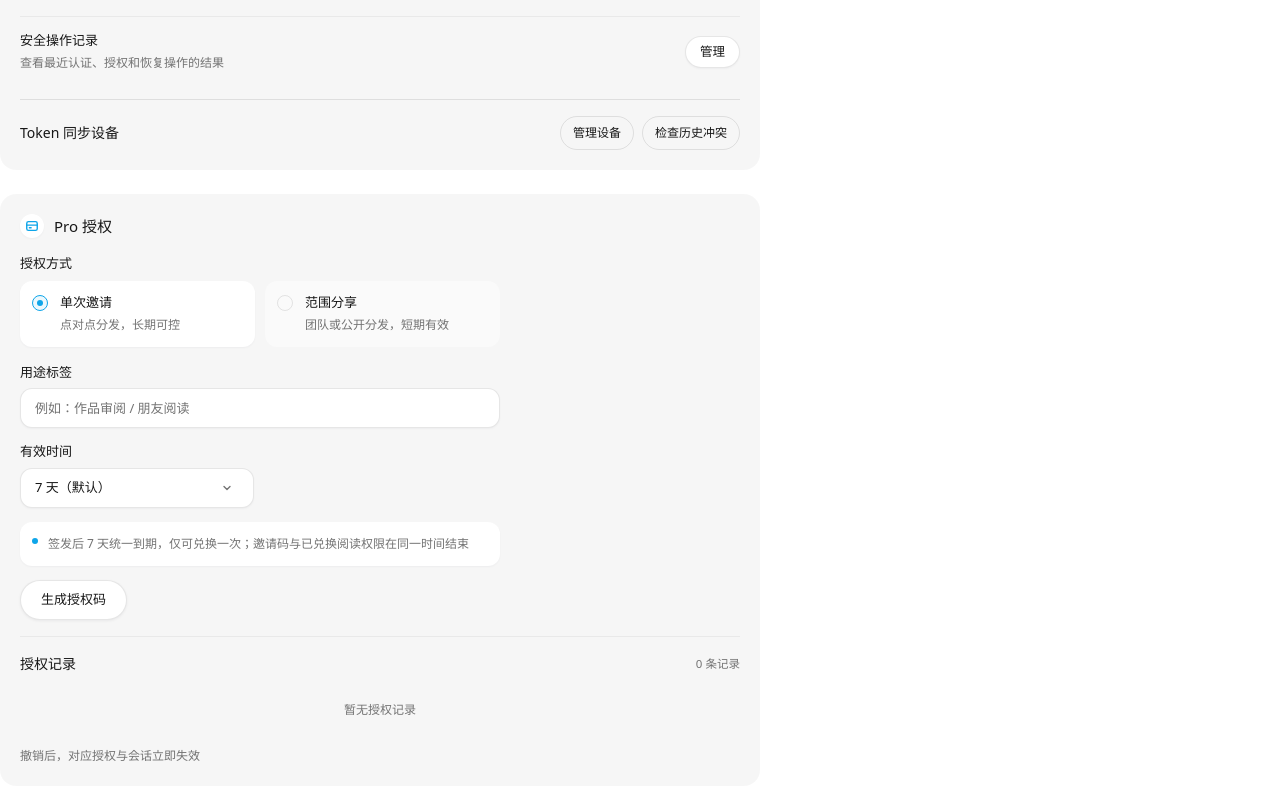
Test case: keeps authentication errors inside the modal and resumes the original operation only after success
The image size is (1280, 786).
(page scrolled)
expect the label labelled "有效时间" is shown: met, box [20, 442, 72, 460]
Step 1. Click the button "生成授权码" → click(74, 600), box [20, 580, 127, 620]
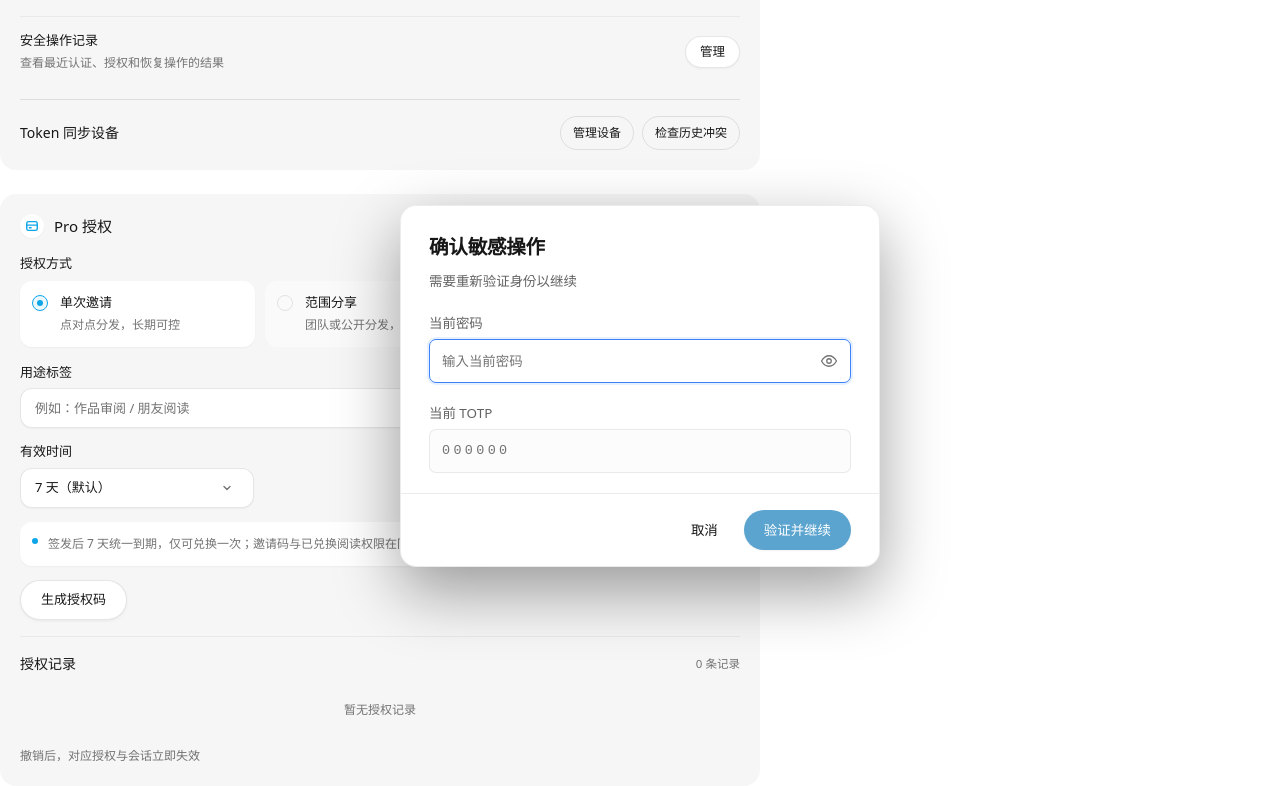
Step 2. Type "password-for-verification" into the password field labelled "当前密码" → (640, 361), box [429, 339, 851, 383]
Step 3. Type "123456" into the field labelled "当前 TOTP" → (640, 451), box [429, 429, 851, 473]
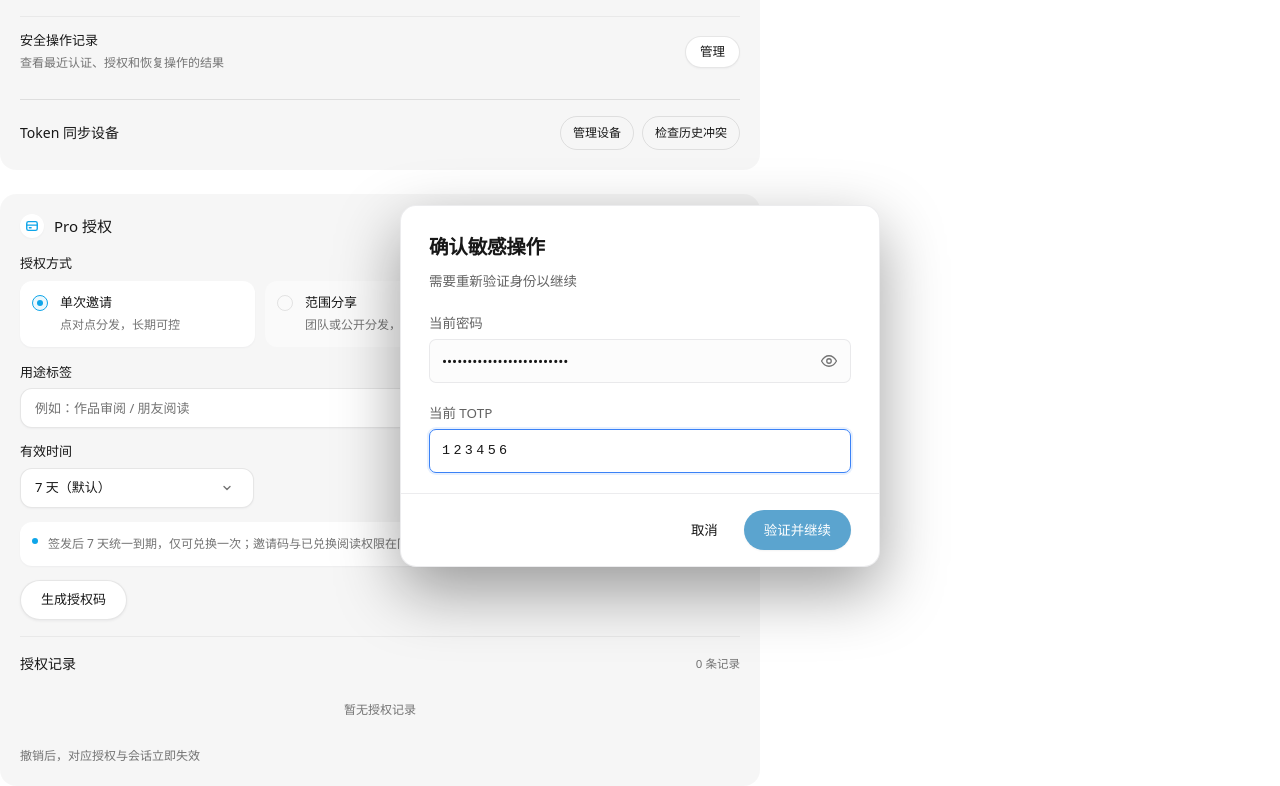
Step 4. Click the button "验证并继续" → click(797, 530), box [744, 510, 851, 550]
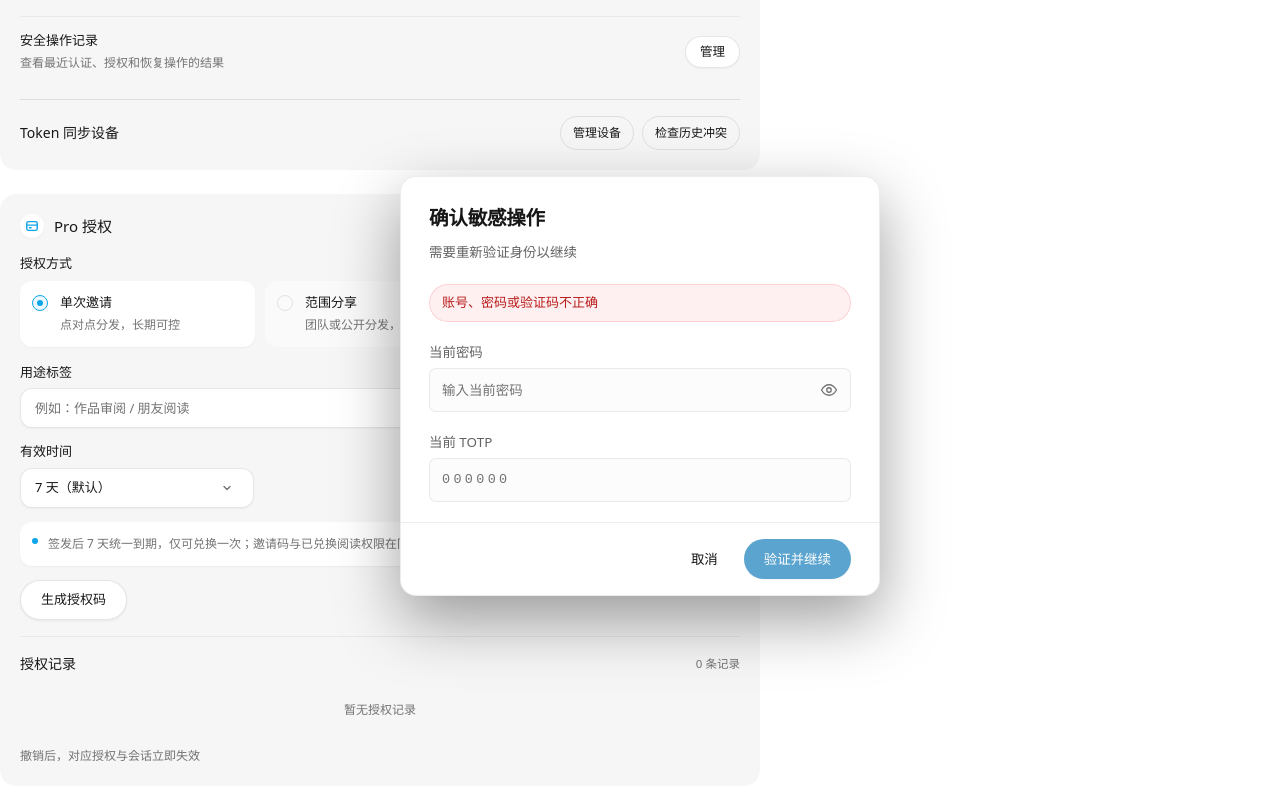
expect the message reads "账号、密码或验证码不正确": met, box [442, 293, 598, 311]
Step 5. Type "password-for-verification" into the password field labelled "当前密码" → (640, 390), box [429, 368, 851, 412]
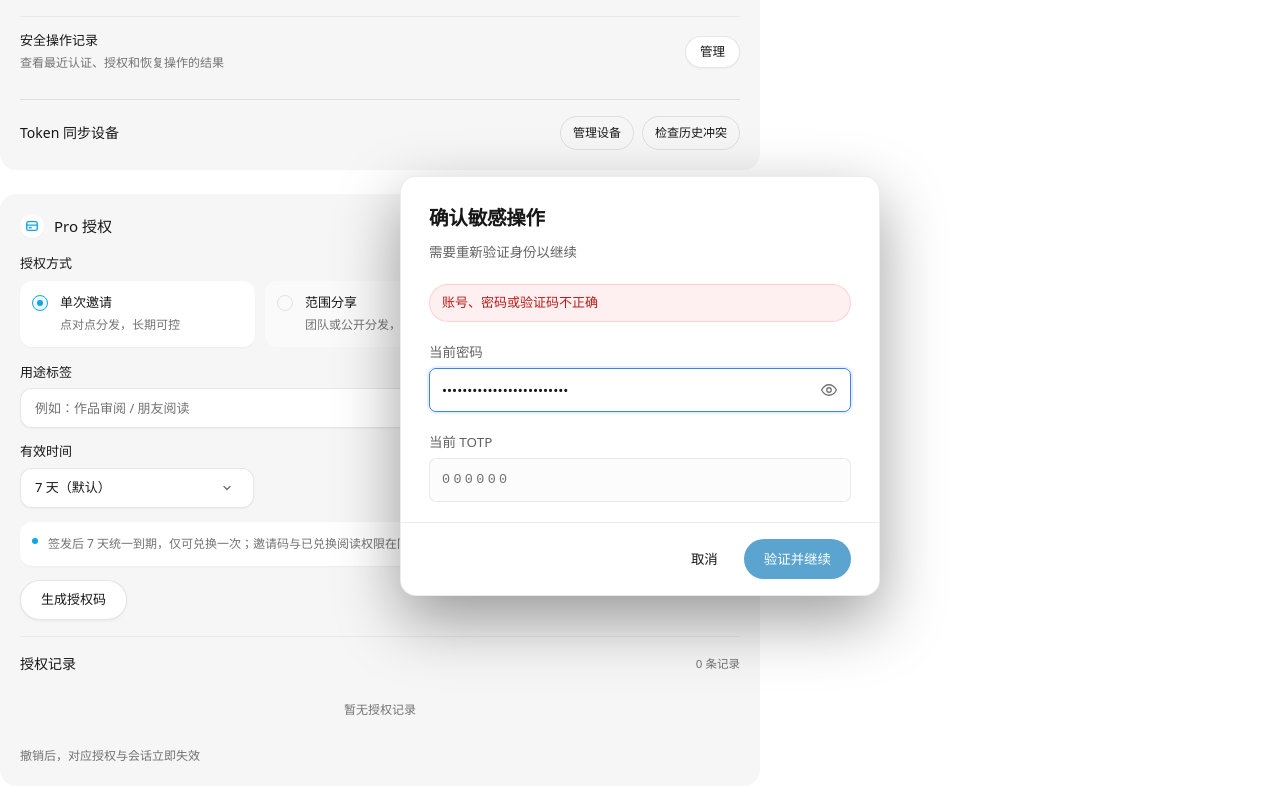
Step 6. Type "654321" into the field labelled "当前 TOTP" → (640, 480), box [429, 458, 851, 502]
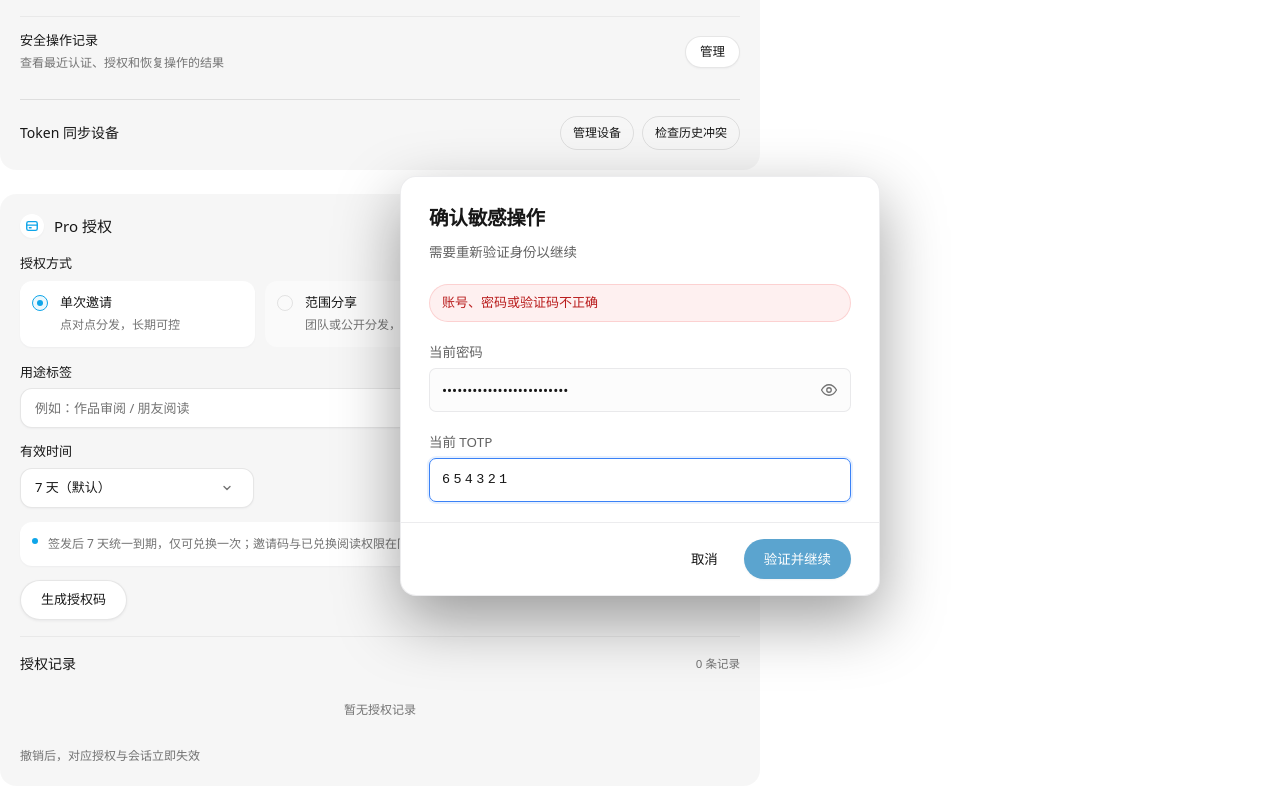
Step 7. Click the button "验证并继续" → click(797, 559), box [744, 539, 851, 579]
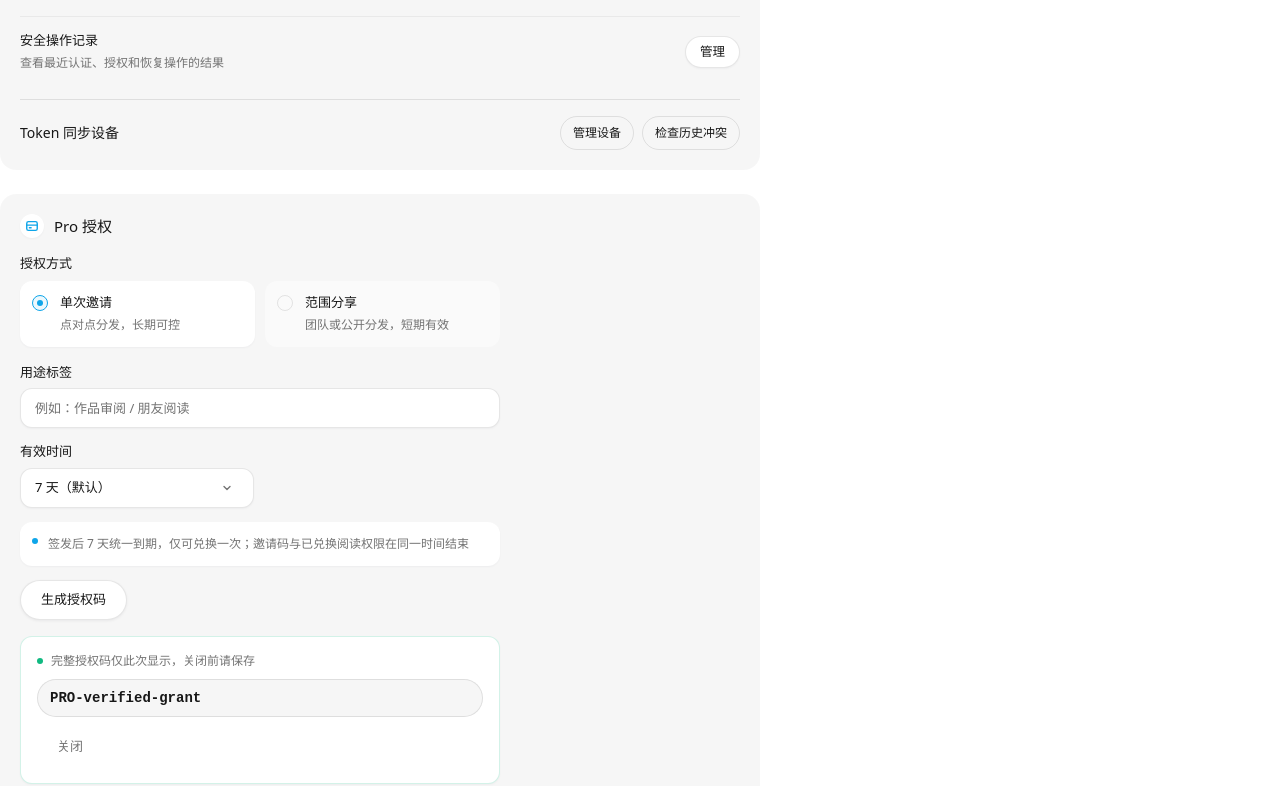
expect the text "PRO-verified-grant" is shown: met, box [37, 679, 483, 717]
expect the dialog is gone: met
